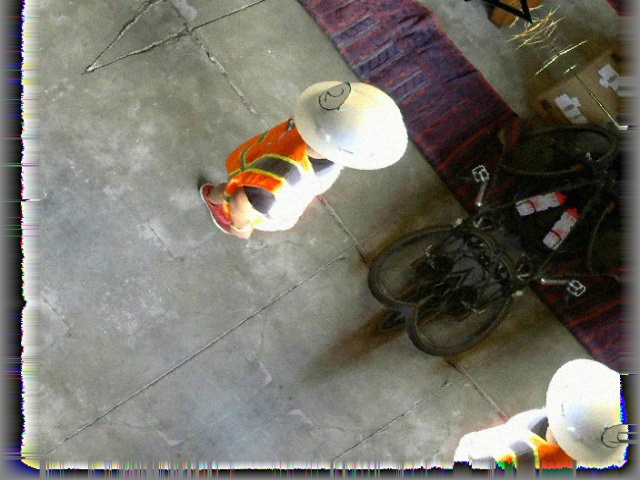two: (313, 76, 357, 113)
